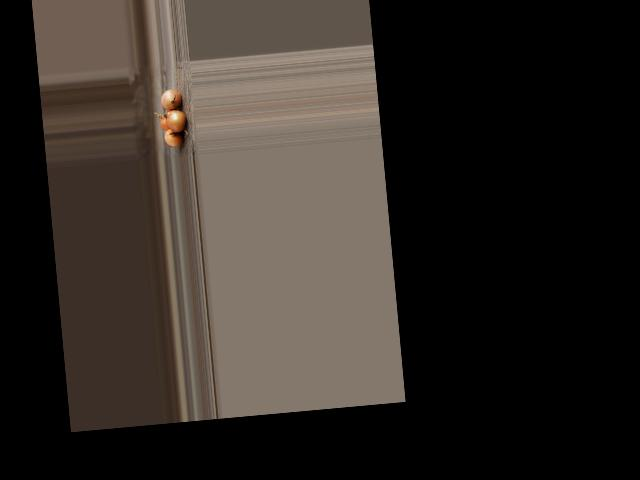onion: (159, 113, 175, 133)
